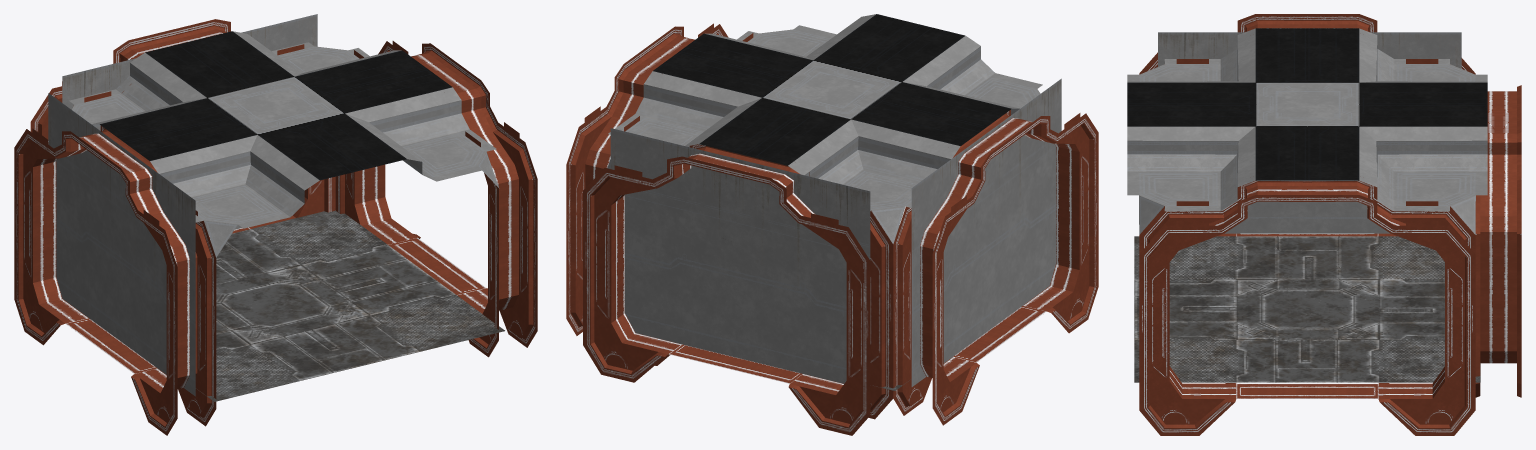
The model's file is Junction(R)_section.FBX.
3 renders of one model, left to right at view 1: azimuth 30°, elevation 25°; view 2: azimuth 150°, elevation 25°; view 3: azimuth 270°, elevation 25°, orthographic. The views are drawn at different scales.
Visible parts, largest first — view 1: Group004, Plane002, Group005, Plane003, Plane004; view 2: Group005, Group004, Plane004, Plane002, Plane003; view 3: Group004, Plane003, Plane004, Group005, Plane002.
Boxes of the visible parts, x1=… form: Group004: x1=69, y1=31, x2=504, y2=401; Plane002: x1=14, y1=125, x2=216, y2=435; Group005: x1=48, y1=14, x2=317, y2=396; Plane003: x1=335, y1=41, x2=537, y2=357; Plane004: x1=30, y1=19, x2=335, y2=238; Group005: x1=610, y1=78, x2=1061, y2=386; Group004: x1=607, y1=14, x2=1042, y2=390; Plane004: x1=583, y1=144, x2=893, y2=435; Plane002: x1=893, y1=110, x2=1098, y2=425; Plane003: x1=566, y1=23, x2=753, y2=335; Group004: x1=1127, y1=28, x2=1487, y2=382; Plane003: x1=1139, y1=180, x2=1475, y2=435; Plane004: x1=1475, y1=85, x2=1521, y2=397; Group005: x1=1158, y1=32, x2=1461, y2=233; Plane002: x1=1139, y1=14, x2=1475, y2=236.
Size of the model in its own units: 623 by 387 by 573.
